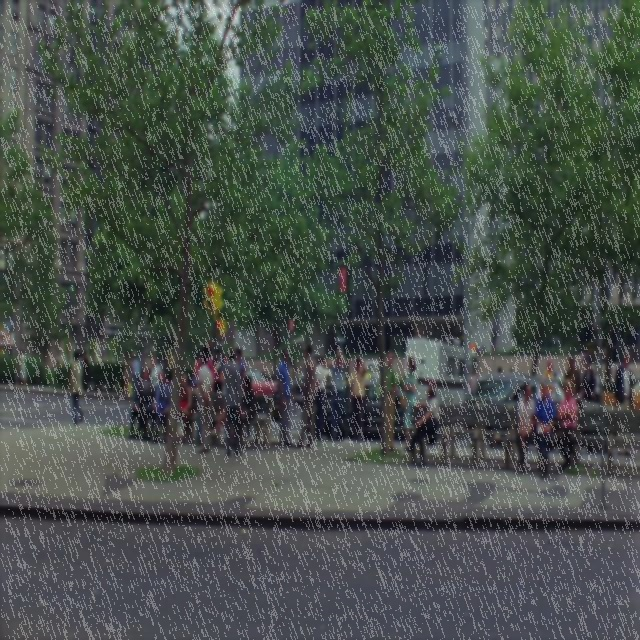pessoa: (402, 383, 440, 467), (292, 342, 317, 451), (612, 347, 636, 460), (194, 341, 217, 447), (532, 378, 556, 479), (554, 376, 578, 472), (223, 348, 243, 457), (514, 380, 536, 478), (126, 367, 154, 440), (398, 353, 419, 448), (140, 368, 166, 444), (196, 352, 215, 455), (276, 346, 295, 449), (149, 368, 174, 444), (326, 348, 346, 443), (210, 348, 228, 444), (349, 351, 367, 441), (68, 348, 86, 429), (385, 350, 398, 454), (314, 353, 328, 442), (563, 353, 583, 408), (232, 344, 248, 412), (240, 374, 256, 438), (178, 372, 192, 445), (581, 356, 597, 404), (128, 348, 140, 411), (148, 356, 162, 404), (288, 360, 298, 414), (544, 356, 556, 401), (190, 352, 203, 388), (18, 346, 28, 392), (80, 348, 90, 389), (368, 366, 380, 400), (470, 339, 488, 358), (122, 354, 130, 394), (468, 365, 478, 396), (48, 357, 66, 372), (88, 348, 94, 368), (0, 344, 6, 362), (78, 351, 85, 365), (494, 362, 502, 374)
